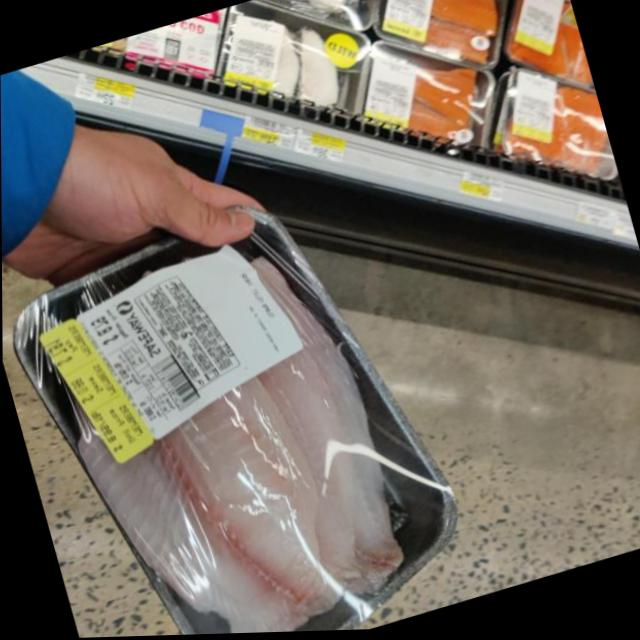Meat: (3, 178, 475, 640), (207, 0, 386, 150), (351, 16, 510, 168), (478, 56, 618, 211), (358, 0, 524, 102), (489, 0, 597, 123)
